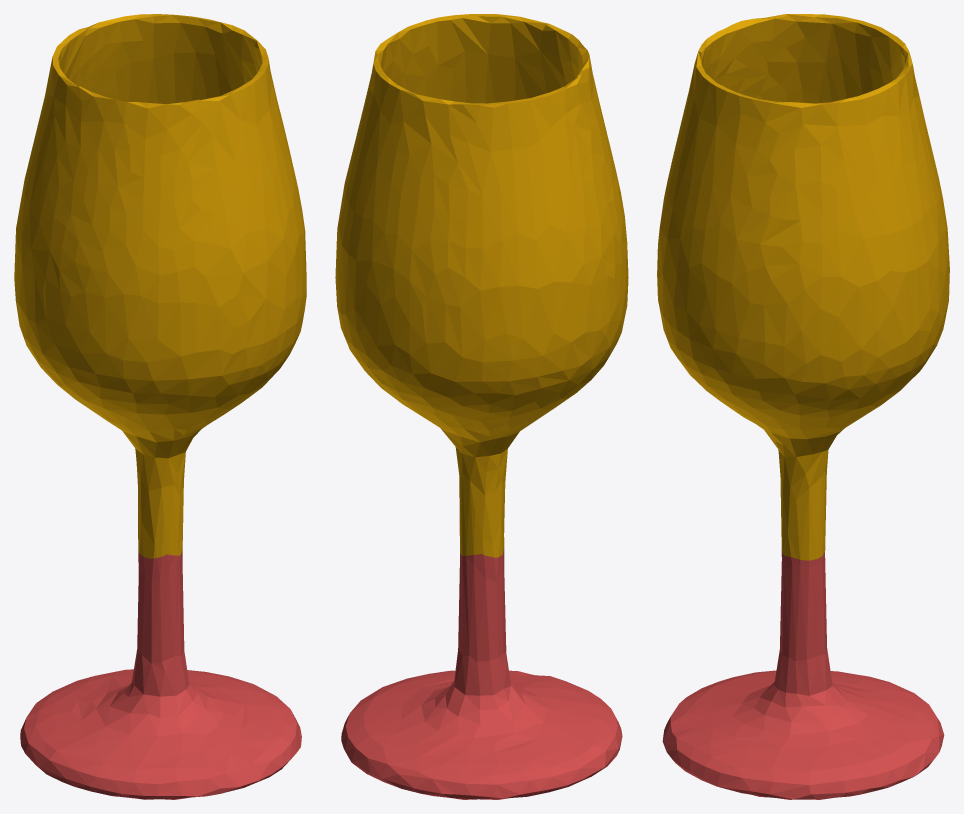
File: fractured_64_2pcs.glb
The picture shows the model from 3 angles, left to right: view 1: azimuth 30°, elevation 25°; view 2: azimuth 150°, elevation 25°; view 3: azimuth 270°, elevation 25°; orthographic projection.
Parts seen in each view (by area): view 1: piece_0.obj, piece_1.obj; view 2: piece_0.obj, piece_1.obj; view 3: piece_0.obj, piece_1.obj.
Part boxes in pixels (x1=…): piece_0.obj: x1=14, y1=14, x2=306, y2=558; piece_1.obj: x1=20, y1=550, x2=301, y2=799; piece_0.obj: x1=335, y1=14, x2=628, y2=557; piece_1.obj: x1=341, y1=548, x2=622, y2=799; piece_0.obj: x1=657, y1=14, x2=949, y2=560; piece_1.obj: x1=662, y1=548, x2=944, y2=799.
Bounding box in the file's own units: 0.3821 × 1 × 0.3823.
